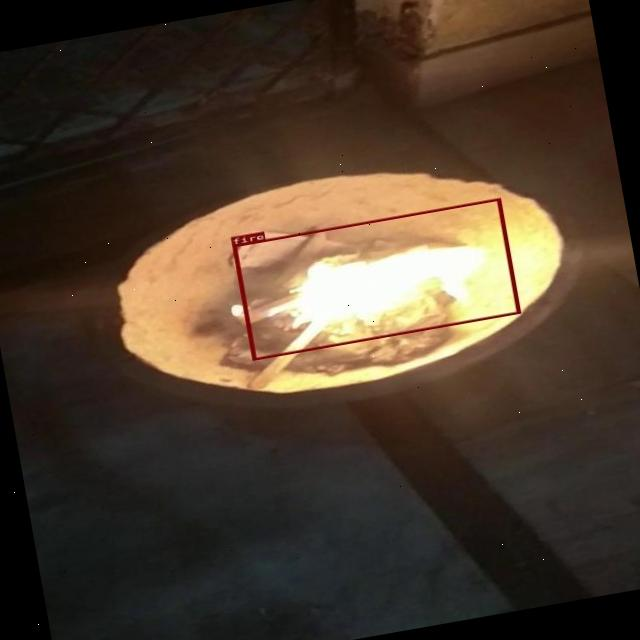fire: (232, 198, 518, 360)
